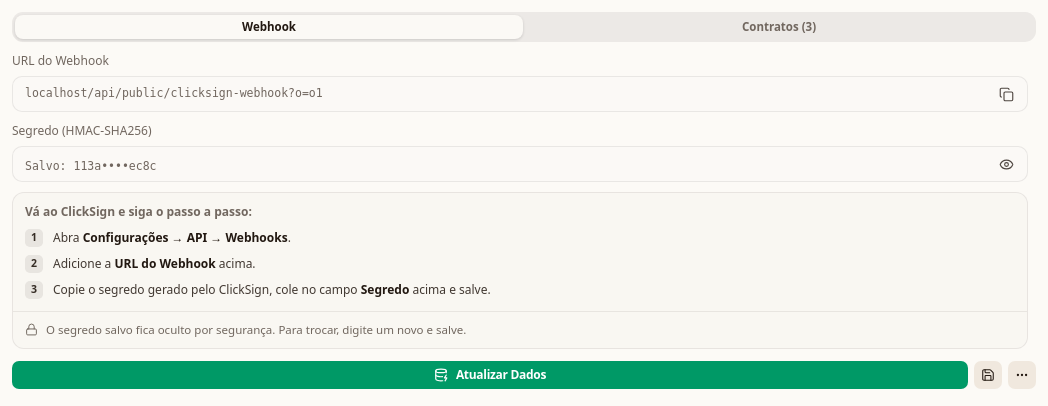
Test: ClickSign — janela refeita › Contratos: sem 'Última Importação', etiqueta ao lado do nome e sem botão de abrir
Step 1. Click the button "Contratos (3)" → (779, 27), box [525,15,1033,39]
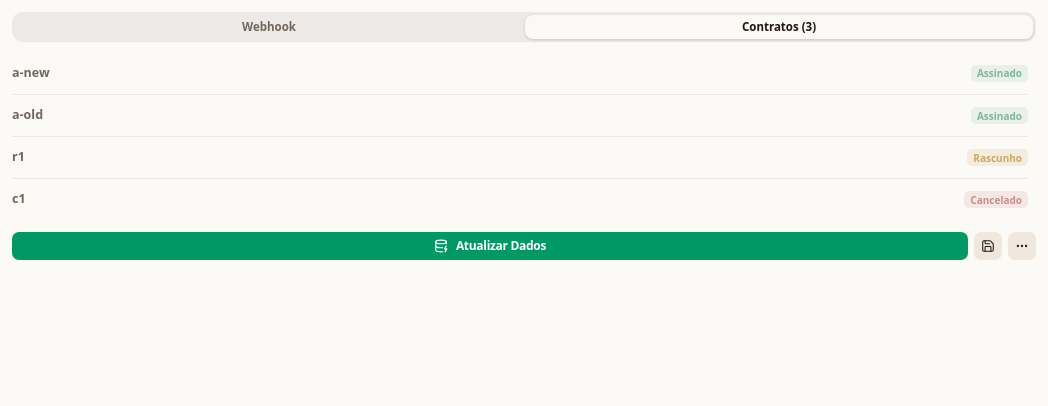
Now the text "a-new" is shown, box [12,64,50,81]
Now the button "a-new Assinado" is shown, box [12,52,1028,94]
Now the button "c1 Cancelado" is shown, box [12,178,1028,220]
